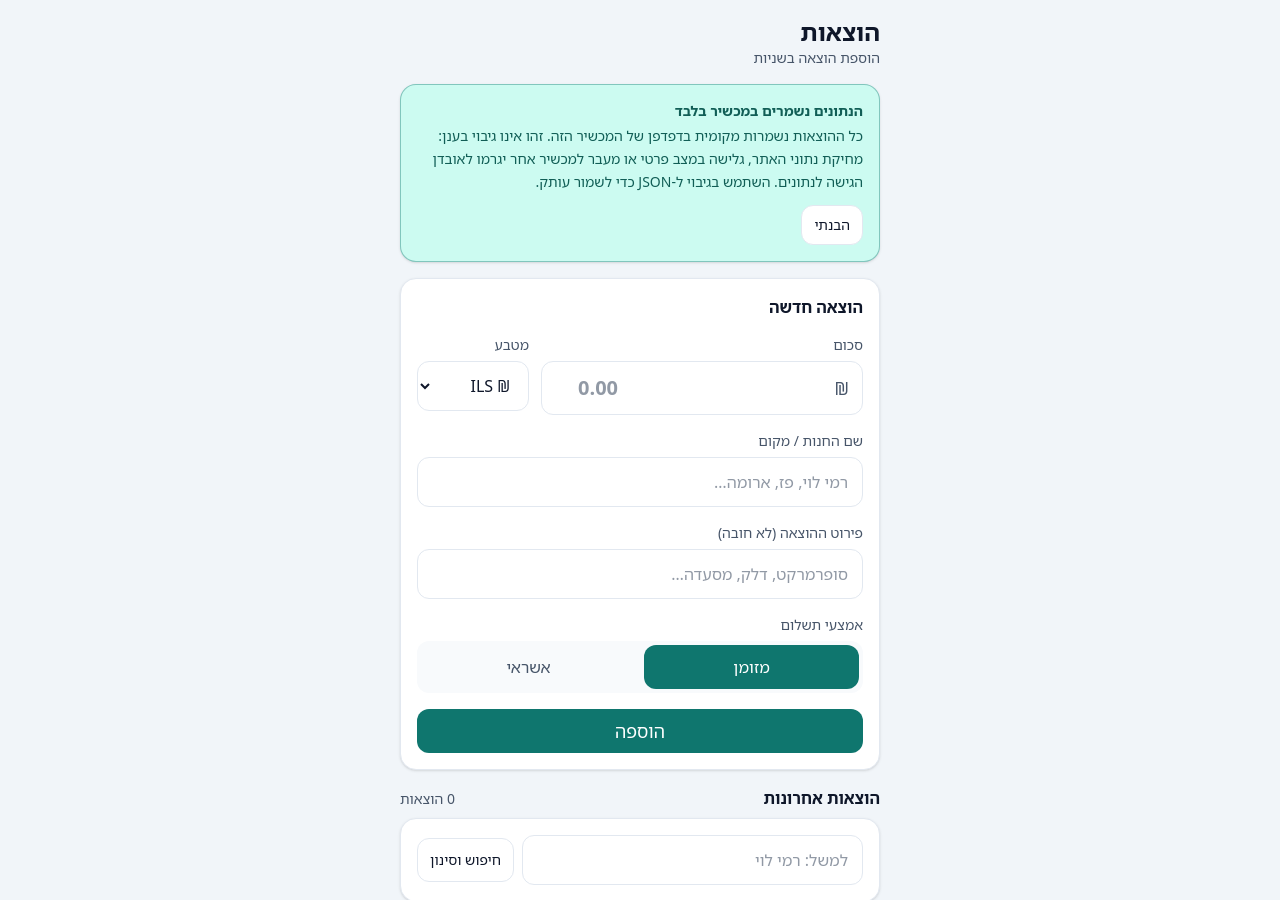
Test: App › מוחק הוצאה רק לאחר אישור
The width and height of the screenshot is (1280, 900).
Type "12" into the field labelled "סכום" at [702, 388], box x1=541 y1=361 x2=863 y2=415
Type "חניון" into the field labelled "שם החנות / מקום" at [640, 482], box x1=417 y1=457 x2=863 y2=507
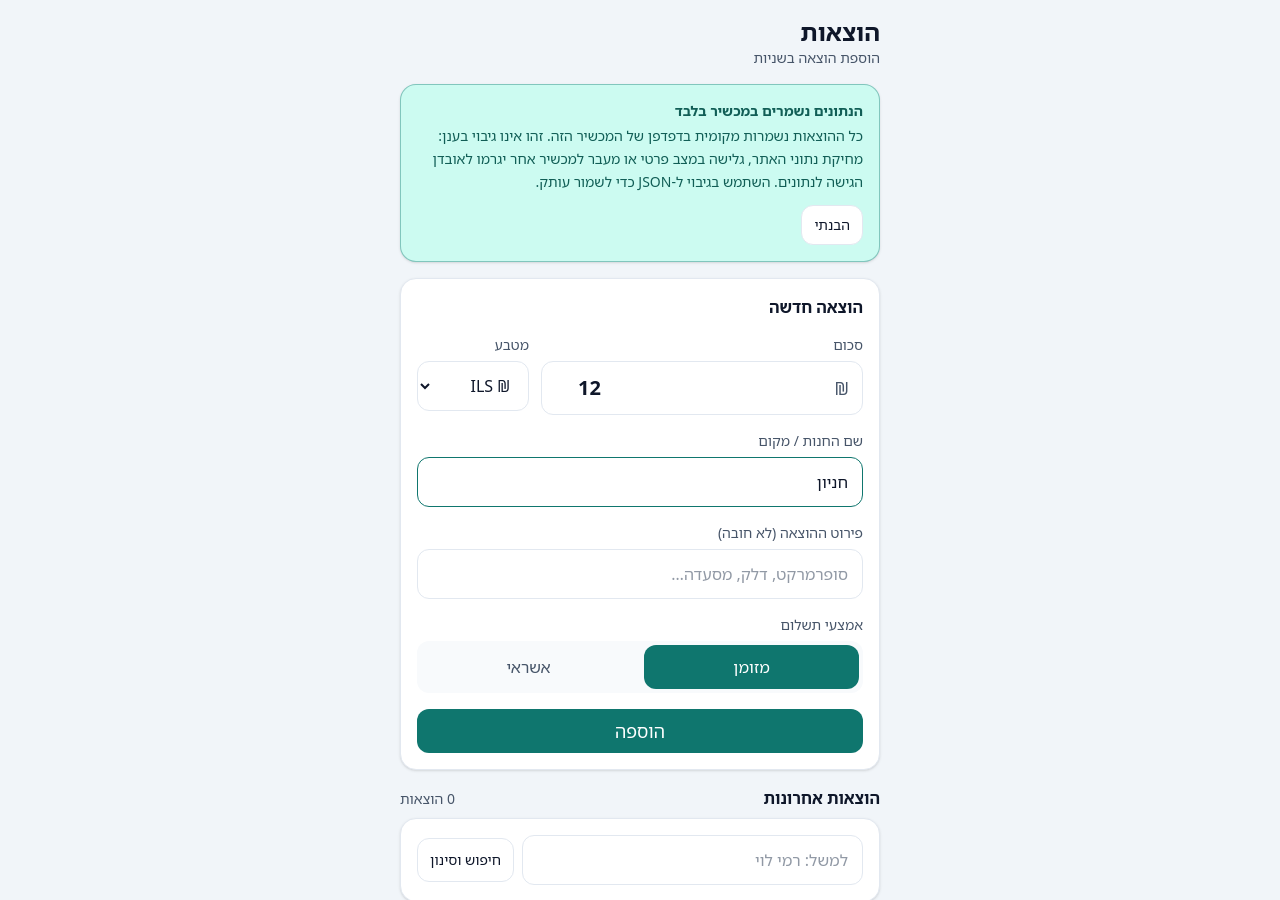
Click the button "הוספה" at [640, 731], box x1=417 y1=709 x2=863 y2=753
(page scrolled)
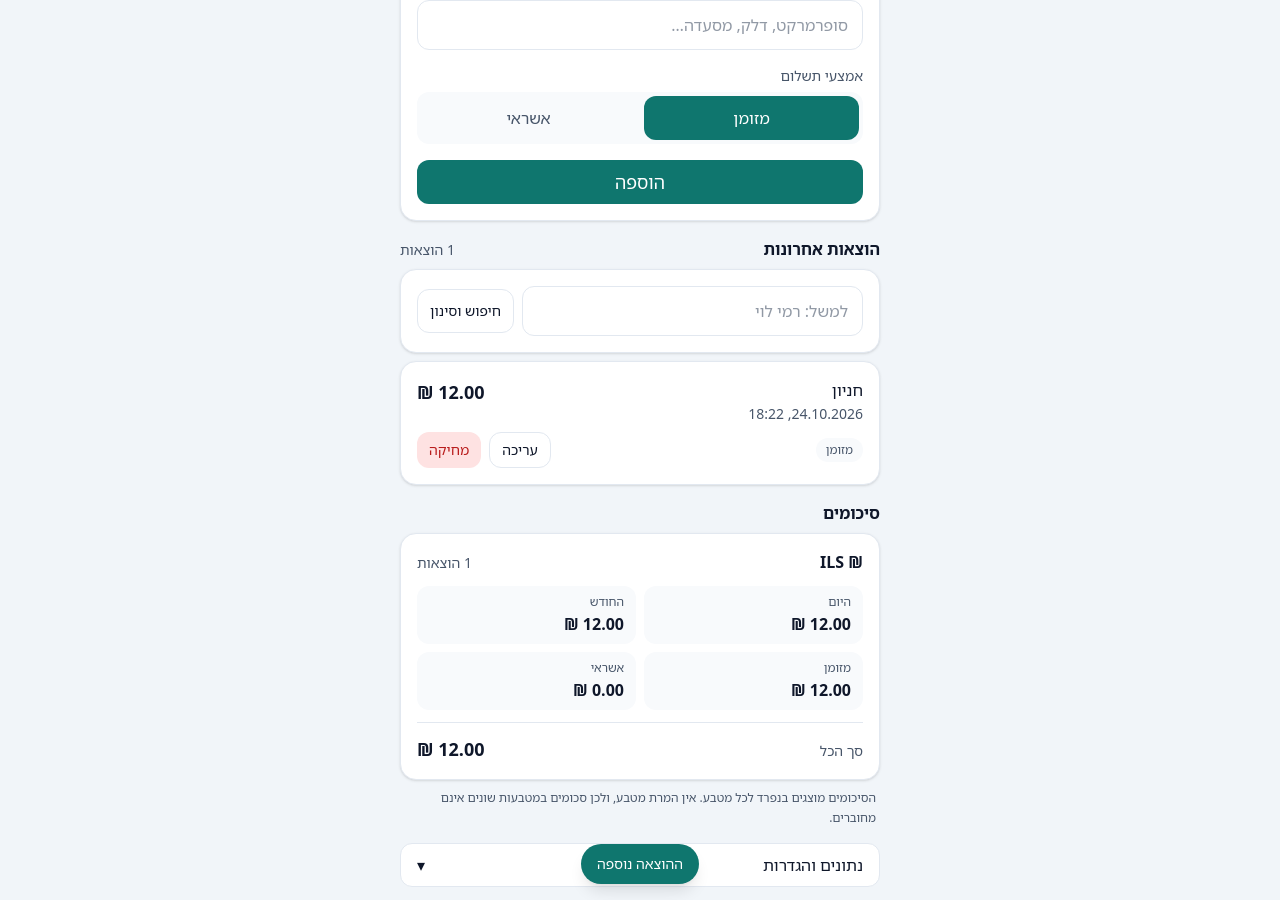
Now the text "חניון" is shown, box x1=832 y1=379 x2=863 y2=401
Click the button "מחיקה" at [449, 450], box x1=417 y1=432 x2=481 y2=468
(page scrolled)
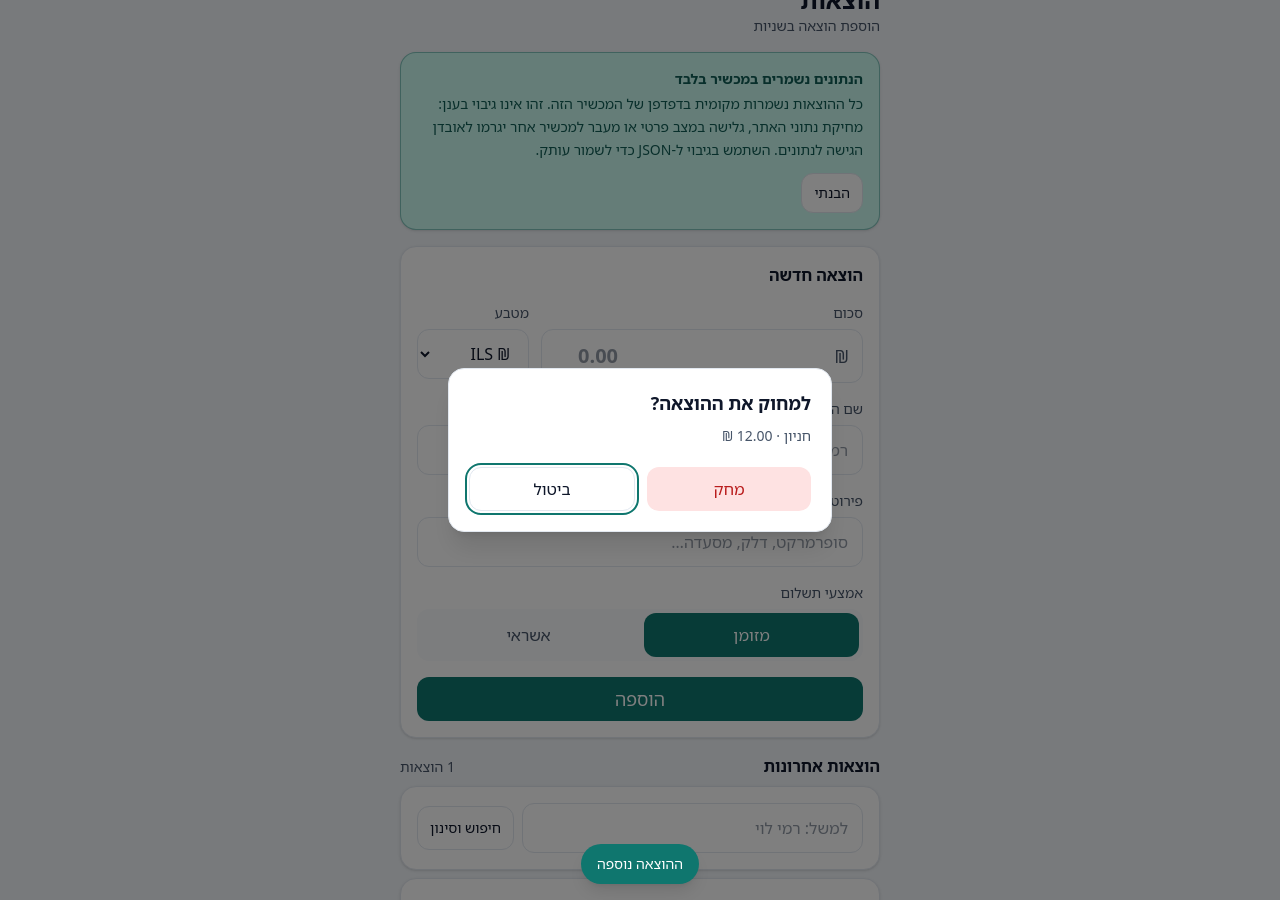
Click the button "ביטול" at [552, 489], box x1=469 y1=467 x2=635 y2=511
(page scrolled)
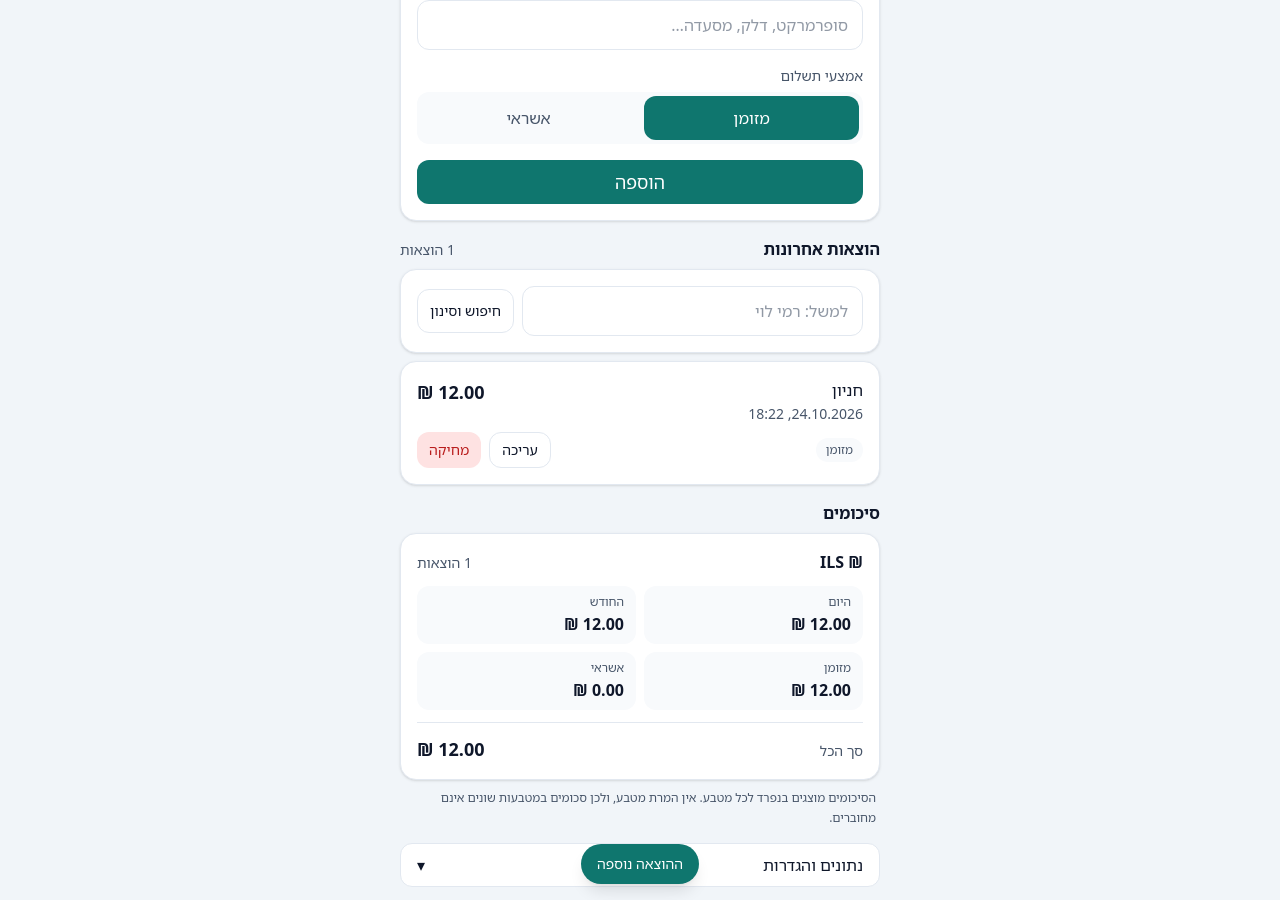
Now the text "חניון" is shown, box x1=832 y1=379 x2=863 y2=401
Click the button "מחיקה" at [449, 450], box x1=417 y1=432 x2=481 y2=468
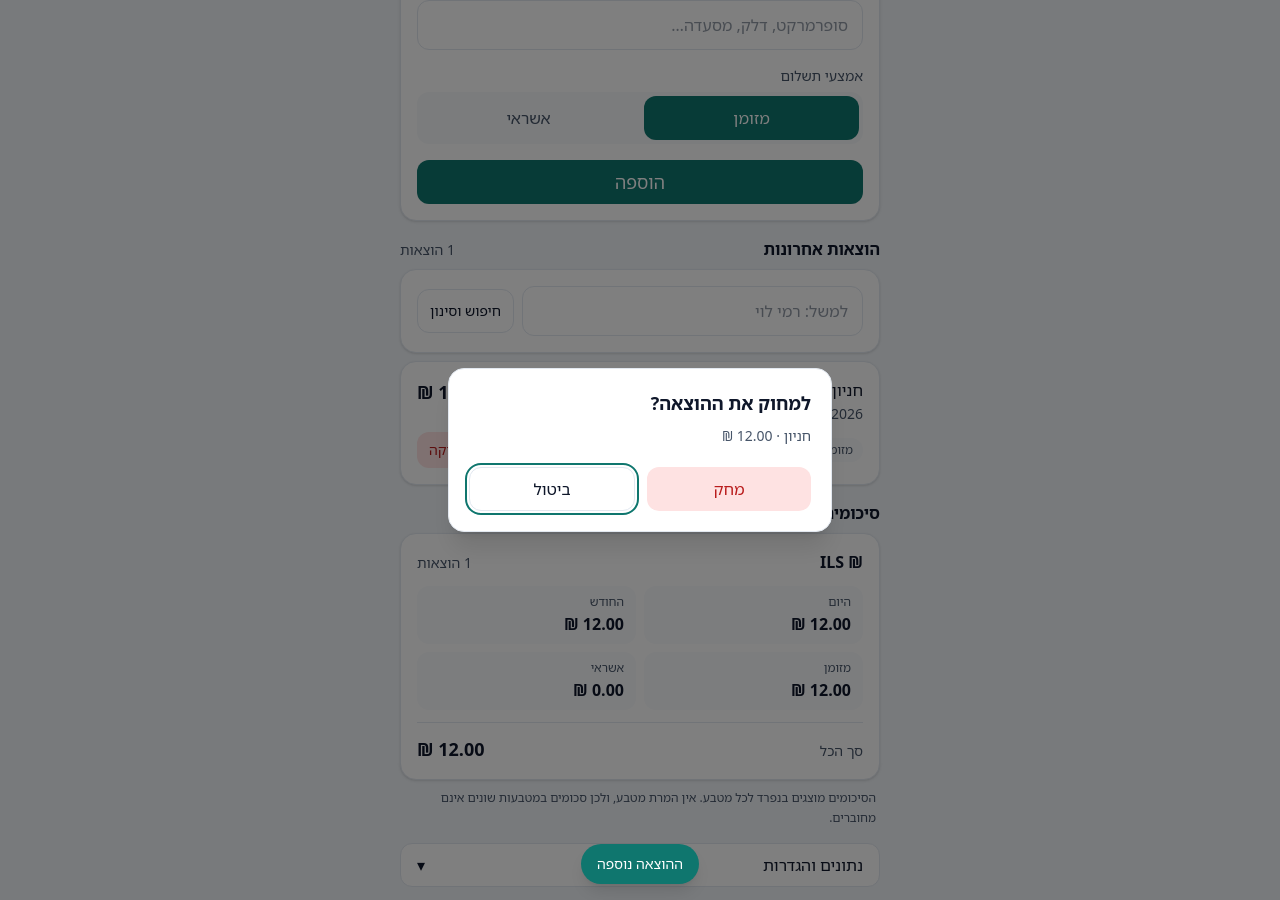
Click the button "מחק" at [729, 489], box x1=647 y1=467 x2=811 y2=511
(page scrolled)
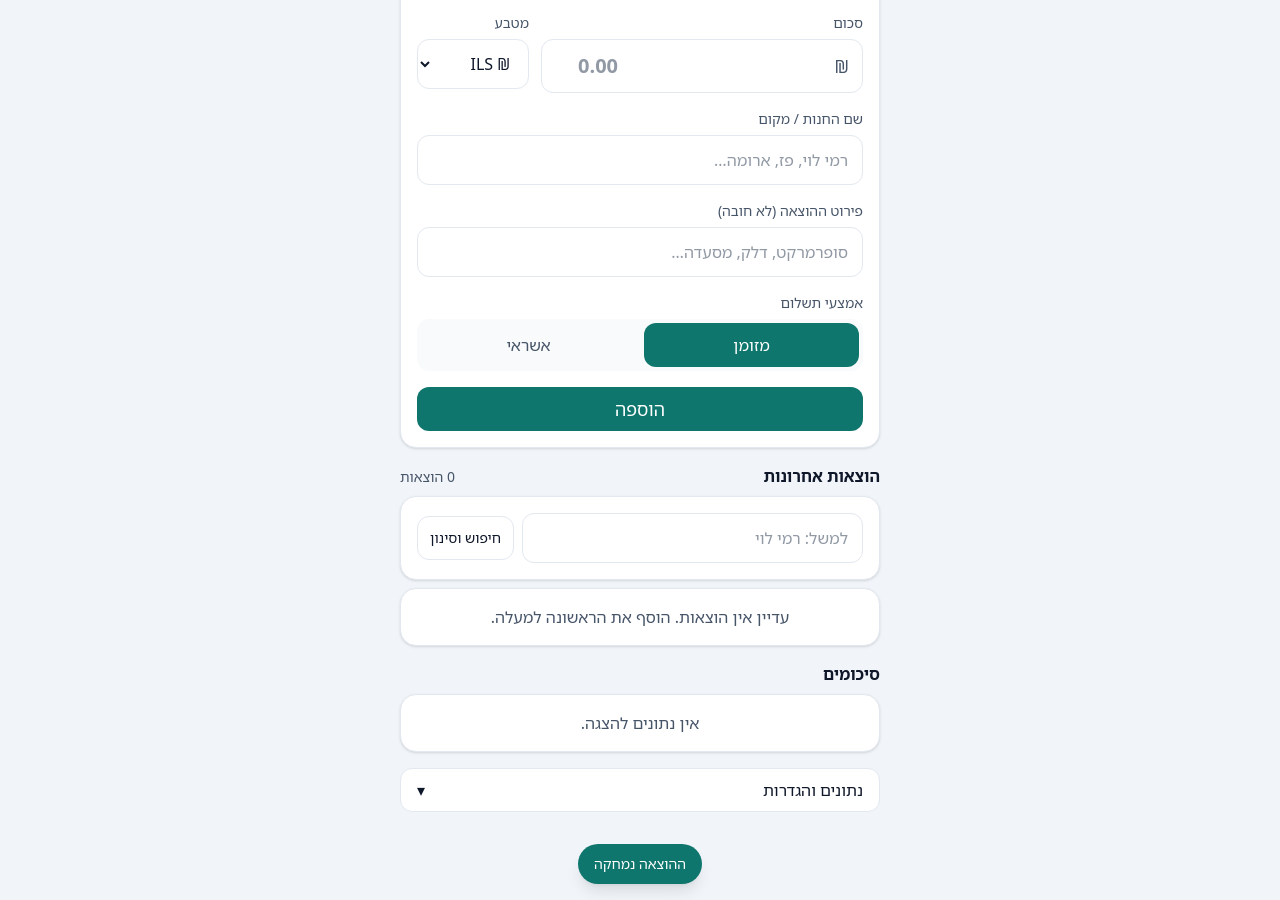
Now the text "חניון" is gone
Now the text "ההוצאה נמחקה" is shown, box x1=578 y1=844 x2=702 y2=884
